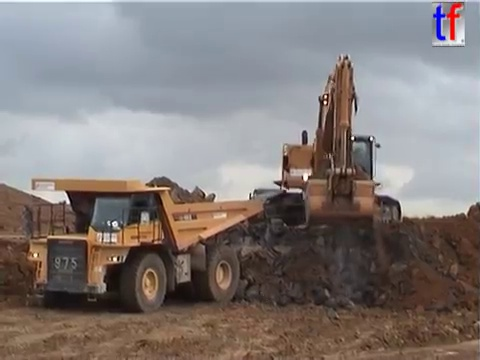excavator: (250, 51, 405, 236)
truck: (20, 176, 265, 314), (248, 186, 292, 224)
